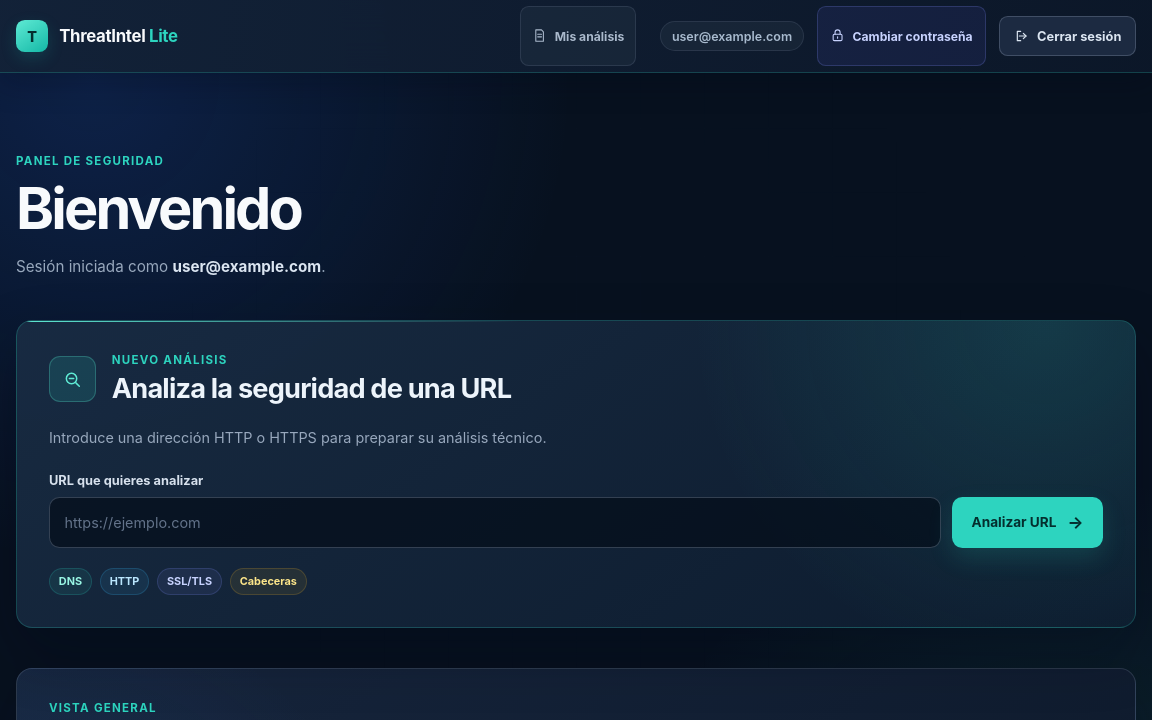
DashboardPage › shows an analysis error without removing the dashboard
Expected: the text "user@example.com" next to "Cambiar contraseña" is shown, 672,28 -> 792,44
Type "ftp://example.com" into the field labelled "URL que quieres analizar".
click(495, 522); type("ftp://example.com")  # box 49,497 -> 941,548
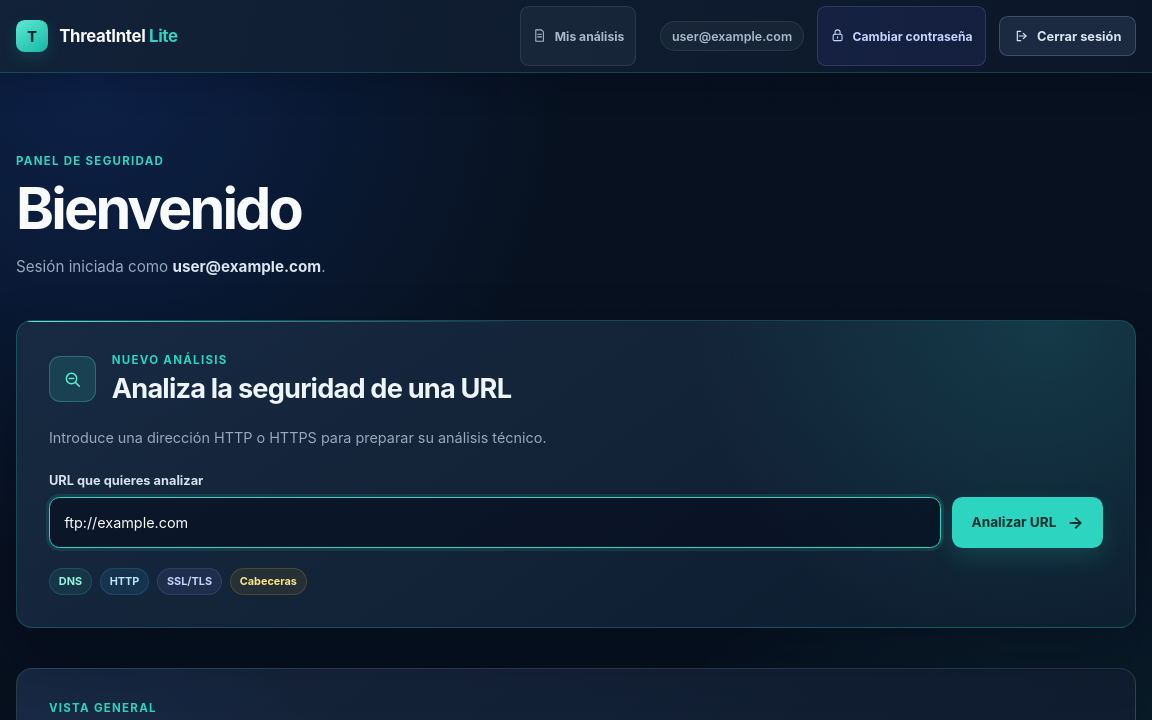
Click the button "Analizar URL →".
click(1028, 522)  # box 952,497 -> 1103,548
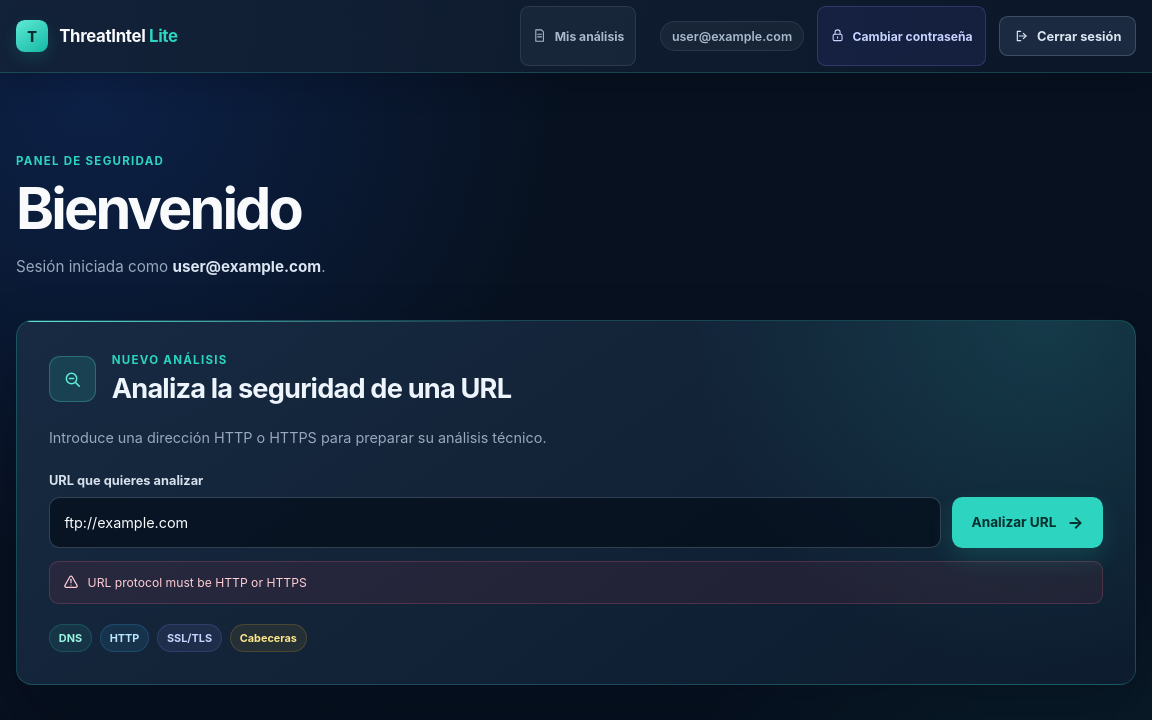
Expected: the heading "Bienvenido" is shown, 16,173 -> 301,243
Result: the message reads "URL protocol must be HTTP or HTTPS" at 88,575 -> 307,590
